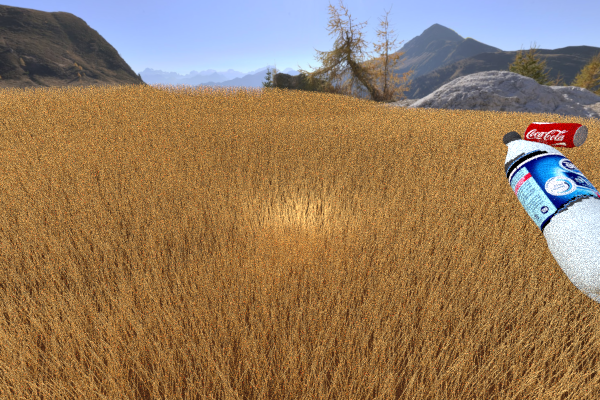Plastic Bottle: (505, 131, 600, 314), (297, 125, 356, 184), (266, 109, 311, 133)
